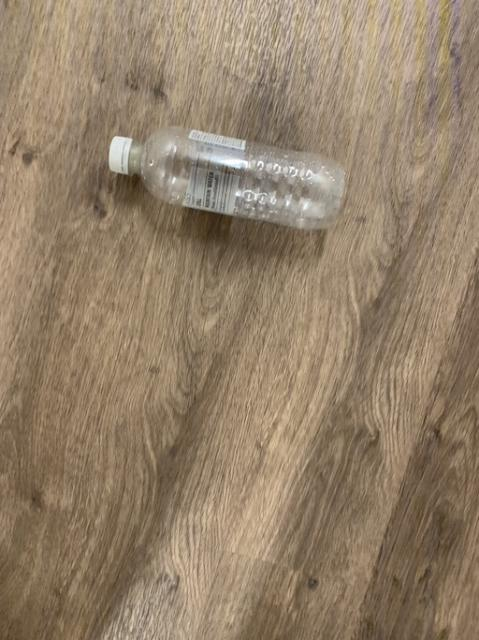plastic: (108, 126, 343, 228)
